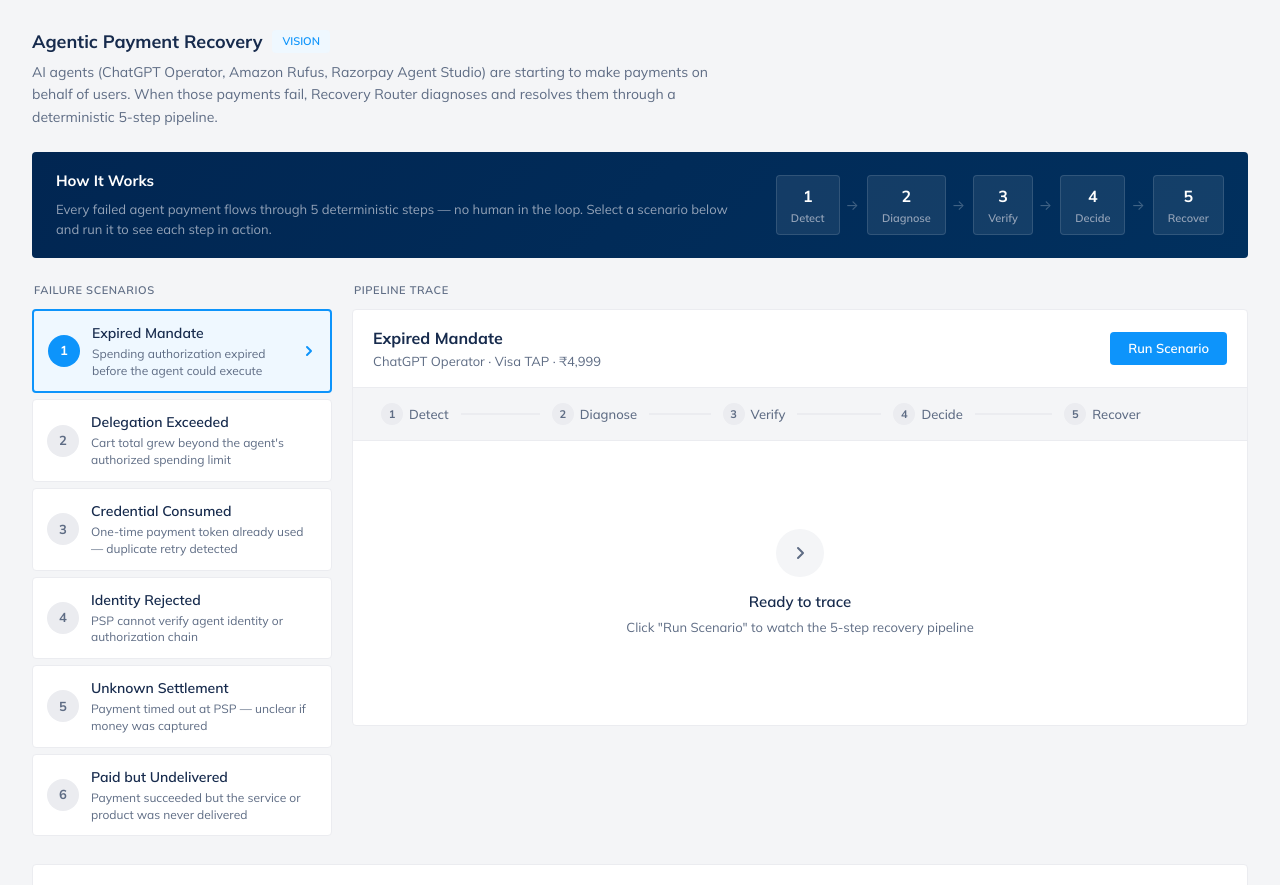
it: AgenticDemoPage › shows pipeline steps after animation completes
Click the button "Run Scenario" at (1169, 349), box [1110, 332, 1227, 365]
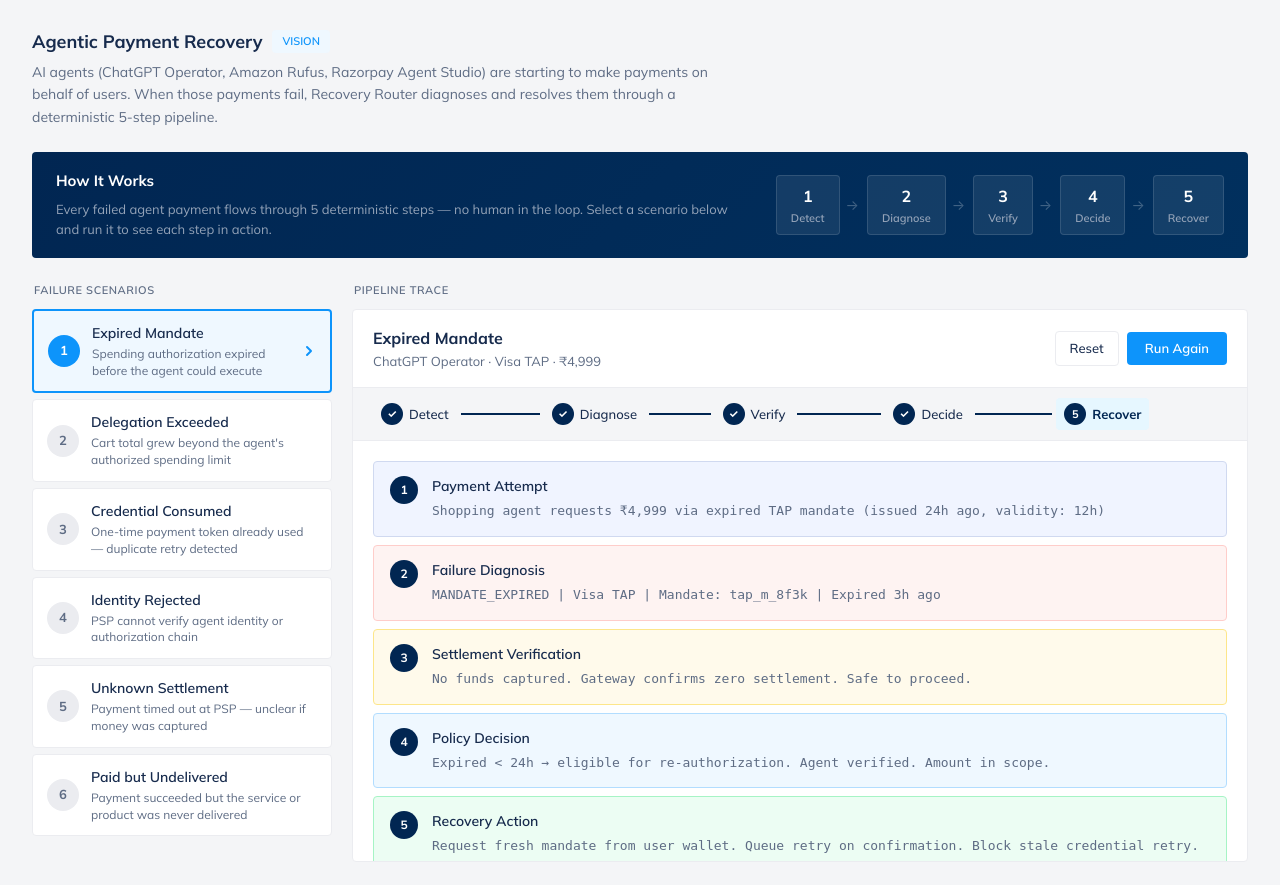
Check: the text "Payment Attempt" is shown, box [432, 477, 548, 495]
